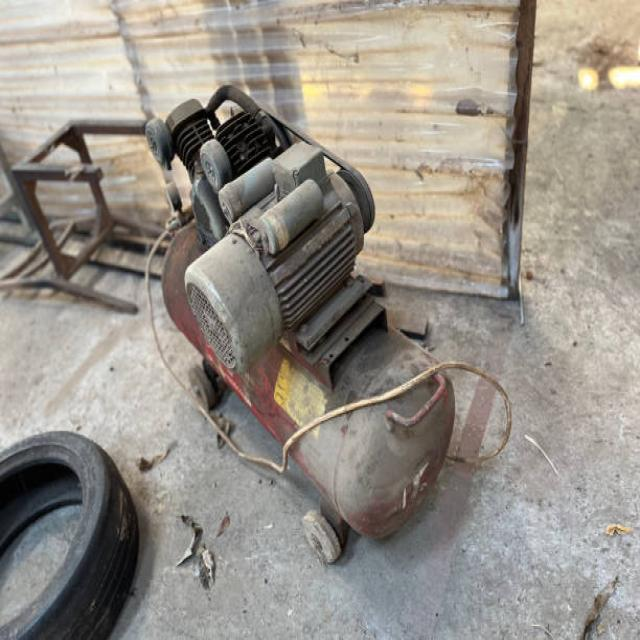compressor: (143, 82, 510, 565)
corrosion detected: (181, 227, 284, 378), (253, 177, 325, 258), (270, 352, 330, 433)
